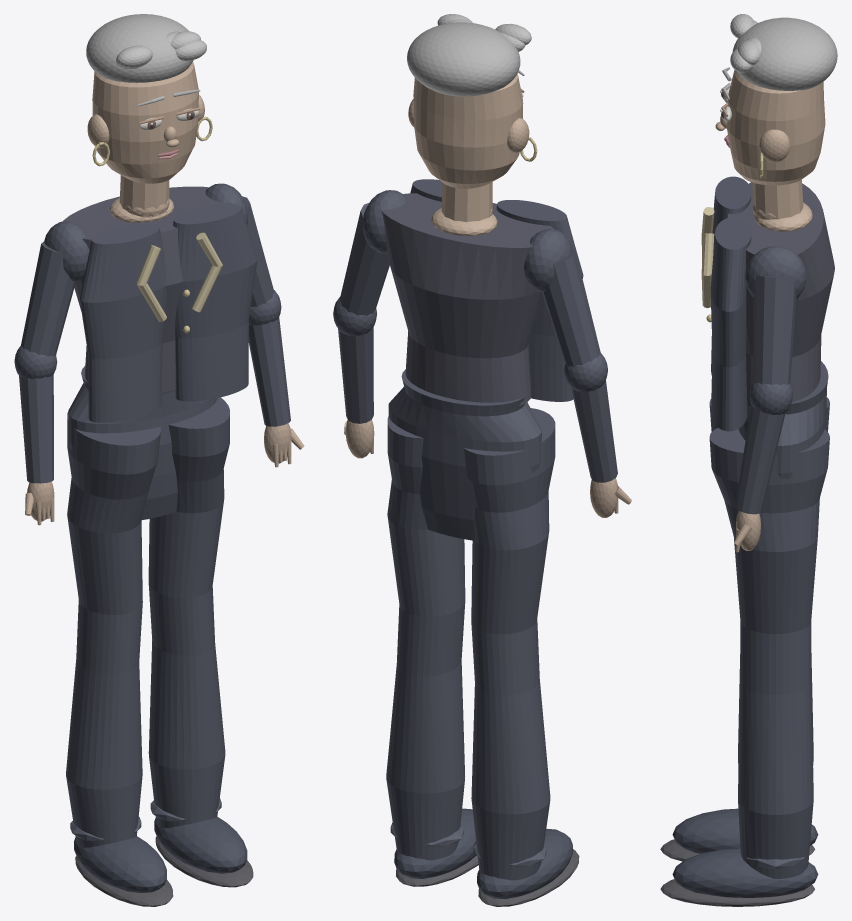
Rendered from jules_model_v1_3.glb.
3 renders of one model, left to right at view 1: azimuth 30°, elevation 25°; view 2: azimuth 150°, elevation 25°; view 3: azimuth 270°, elevation 25°, orthographic. The views are drawn at different scales.
Visible parts, largest first — view 1: L_trouser_003, R_trouser_007, L_jacket_panel_011, R_jacket_panel_013, face_skin_038, torso_010, pelvis_009, hair_cap_059, L_upper_arm_016, R_shoe_005, L_shoe_001, L_forearm_018 (+15 smaller); view 2: L_trouser_003, R_trouser_007, torso_010, pelvis_009, face_skin_038, hair_cap_059, L_jacket_panel_011, L_upper_arm_016, L_forearm_018, R_upper_arm_026, R_forearm_028, L_shoe_001 (+12 smaller); view 3: R_trouser_007, face_skin_038, torso_010, R_jacket_panel_013, hair_cap_059, R_upper_arm_026, R_shoe_005, R_forearm_028, pelvis_009, L_shoe_001, R_shoulder_cap_025, R_sole_006 (+12 smaller).
Boxes of the visible parts, x1,y1,x2,y2 form: L_trouser_003: [66, 412, 160, 847]; R_trouser_007: [148, 397, 229, 827]; L_jacket_panel_011: [79, 223, 166, 422]; R_jacket_panel_013: [173, 203, 257, 401]; face_skin_038: [92, 62, 198, 183]; torso_010: [62, 186, 230, 392]; pelvis_009: [68, 366, 217, 520]; hair_cap_059: [86, 14, 193, 82]; L_upper_arm_016: [21, 241, 75, 356]; R_shoe_005: [154, 816, 247, 873]; L_shoe_001: [74, 836, 166, 892]; L_forearm_018: [19, 374, 53, 483]; L_trouser_003: [463, 408, 555, 880]; R_trouser_007: [386, 416, 465, 860]; torso_010: [381, 193, 553, 405]; pelvis_009: [388, 369, 541, 540]; face_skin_038: [413, 73, 523, 188]; hair_cap_059: [407, 22, 520, 96]; L_jacket_panel_011: [496, 200, 583, 401]; L_upper_arm_016: [542, 248, 600, 366]; L_forearm_018: [571, 380, 617, 482]; R_upper_arm_026: [339, 203, 389, 315]; R_forearm_028: [338, 327, 373, 423]; L_shoe_001: [477, 828, 572, 899]; R_trouser_007: [709, 428, 829, 878]; face_skin_038: [726, 69, 825, 185]; torso_010: [727, 182, 834, 406]; R_jacket_panel_013: [710, 217, 751, 431]; hair_cap_059: [732, 17, 837, 90]; R_upper_arm_026: [753, 275, 796, 385]; R_shoe_005: [672, 848, 818, 897]; R_forearm_028: [735, 404, 785, 514]; pelvis_009: [738, 361, 828, 479]; L_shoe_001: [672, 808, 818, 853]; R_shoulder_cap_025: [745, 246, 806, 299]; R_sole_006: [660, 879, 814, 906].
Size of the model in its own units: 0.6241 by 1.79 by 0.3377.
